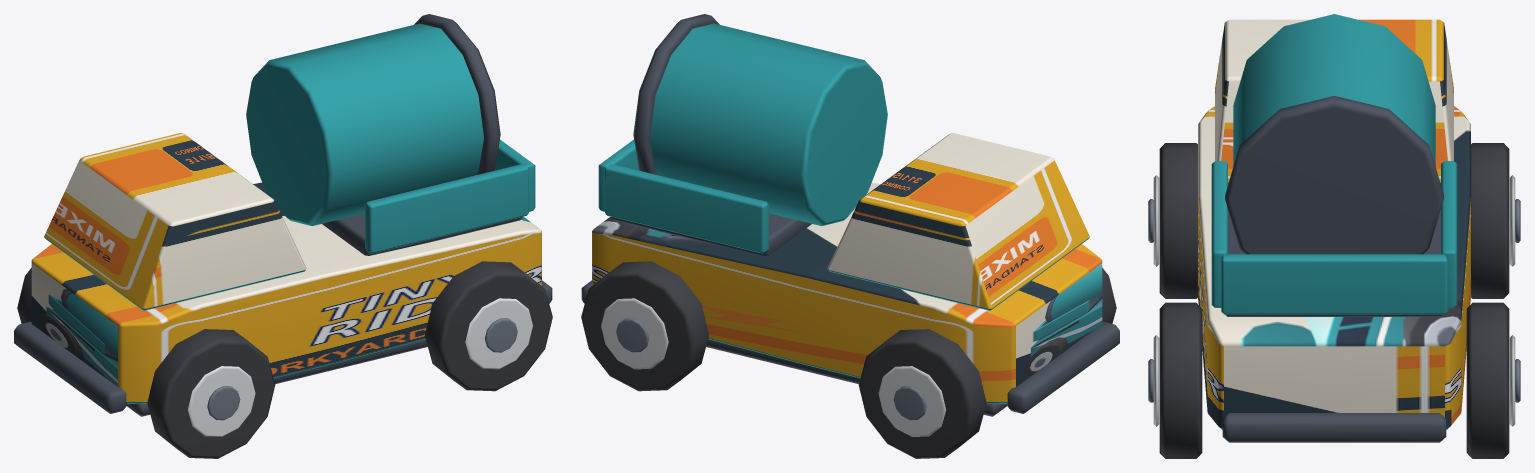
3 renders of one model, left to right at view 1: azimuth 30°, elevation 25°; view 2: azimuth 150°, elevation 25°; view 3: azimuth 270°, elevation 25°, orthographic. The views are drawn at different scales.
Visible parts, largest first — view 1: WY-02_connected_shell, large mixing drum, WY-02_cabin, Tire, Tire.002, cargo side, front bumper, rear drum collar, Rim.002, Rim, cargo floor, underbody (+4 smaller); view 2: WY-02_connected_shell, large mixing drum, WY-02_cabin, Tire.001, Tire.003, cargo side.001, front bumper, rear drum collar, Rim.003, Rim.001, cargo floor, underbody (+4 smaller); view 3: WY-02_connected_shell, rear drum collar, large mixing drum, cargo tail, WY-02_cabin, Tire.002, Tire.003, rear bumper, Tire, Tire.001, cargo side, cargo side.001 (+5 smaller).
Part boxes in pixels (x1,y1,x2,y2): WY-02_connected_shell: [31, 182, 541, 403]; large mixing drum: [246, 23, 483, 225]; WY-02_cabin: [44, 133, 306, 310]; Tire: [147, 329, 275, 458]; Tire.002: [425, 261, 552, 391]; cargo side: [365, 164, 528, 253]; front bumper: [14, 321, 126, 413]; rear drum collar: [414, 14, 500, 174]; Rim.002: [465, 298, 532, 369]; Rim: [188, 366, 255, 436]; cargo floor: [322, 213, 522, 255]; underbody: [127, 339, 427, 416]; WY-02_connected_shell: [592, 182, 1102, 403]; large mixing drum: [650, 23, 887, 225]; WY-02_cabin: [827, 133, 1089, 310]; Tire.001: [858, 329, 986, 458]; Tire.003: [581, 261, 708, 391]; cargo side.001: [605, 164, 768, 253]; front bumper: [1007, 321, 1119, 413]; rear drum collar: [633, 14, 719, 174]; Rim.003: [601, 298, 668, 369]; Rim.001: [878, 366, 945, 436]; cargo floor: [611, 213, 811, 255]; underbody: [706, 339, 1006, 416]; WY-02_connected_shell: [1198, 106, 1470, 429]; rear drum collar: [1225, 96, 1443, 254]; large mixing drum: [1233, 14, 1435, 165]; cargo tail: [1221, 254, 1447, 314]; WY-02_cabin: [1215, 19, 1453, 183]; Tire.002: [1159, 302, 1202, 458]; Tire.003: [1466, 302, 1509, 458]; rear bumper: [1222, 413, 1446, 442]; Tire: [1159, 143, 1197, 298]; Tire.001: [1471, 143, 1509, 298]; cargo side: [1211, 161, 1227, 307]; cargo side.001: [1441, 161, 1457, 307].
Bounding box in the file's own units: 374 × 249 × 228.
